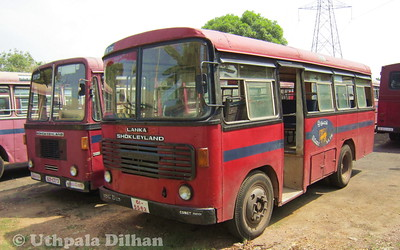bus: (98, 27, 374, 240), (23, 58, 101, 193)
